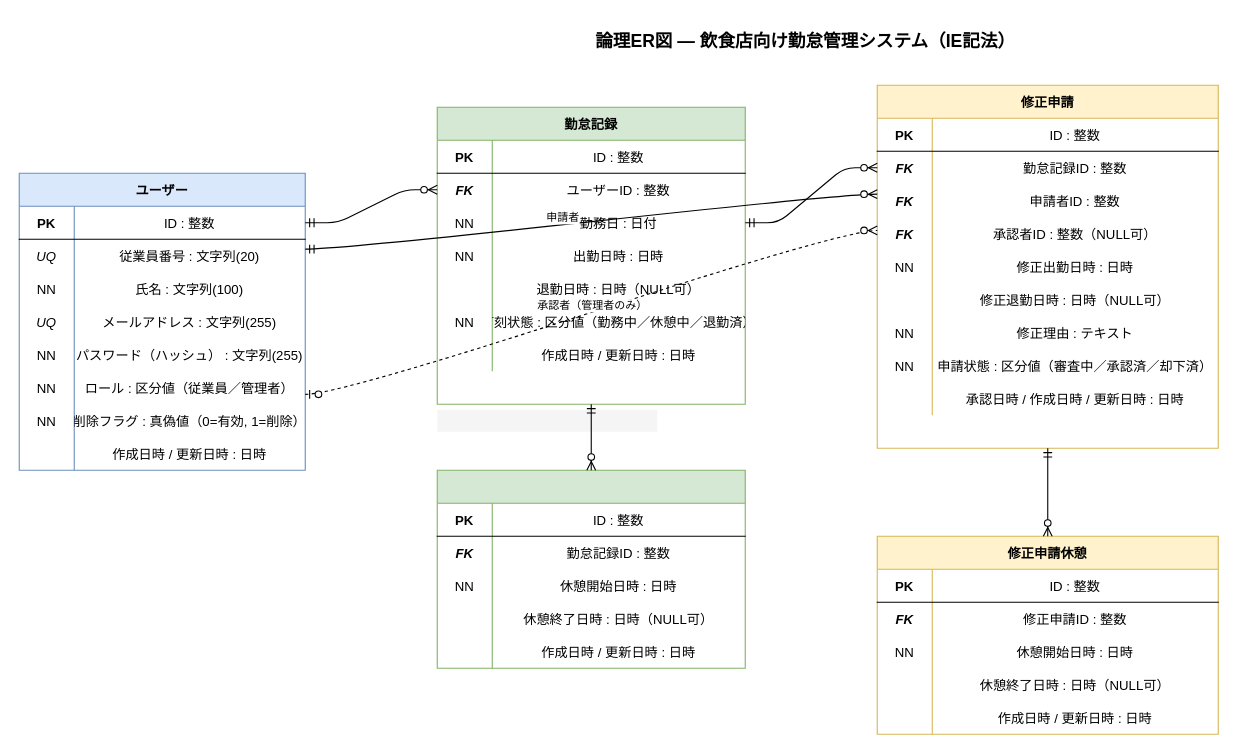
Image size: 1238x754. Some labels were removed from this diagram. The shapes that lost their labels are listed below. From the top down, each one's box as (x1, y1, x2, y2) in pixels, then its label:
(437, 409, 657, 431): UQ(ユーザーID, 勤務日)
(436, 469, 745, 668): 休憩記録
